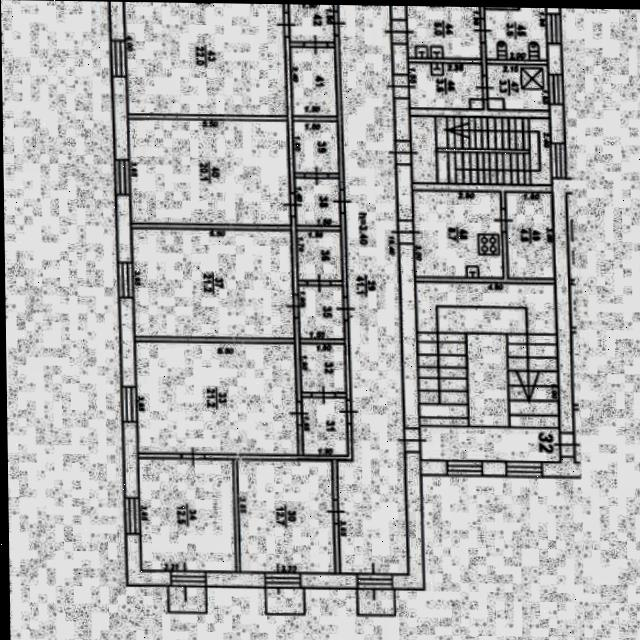room: (323, 4, 405, 576), (416, 280, 557, 465), (131, 341, 297, 455), (123, 2, 287, 116), (126, 118, 291, 225), (130, 230, 295, 337), (235, 457, 333, 574), (137, 456, 234, 574), (409, 117, 552, 184), (410, 191, 502, 277), (505, 191, 551, 278), (405, 6, 481, 58), (408, 63, 481, 108), (485, 7, 547, 59), (291, 46, 335, 118), (485, 64, 548, 110), (300, 396, 345, 456), (298, 284, 342, 341), (292, 120, 337, 174), (296, 228, 340, 281), (298, 343, 343, 394), (294, 177, 339, 227), (288, 4, 334, 42), (264, 588, 302, 613), (355, 589, 392, 614), (166, 588, 204, 612)
